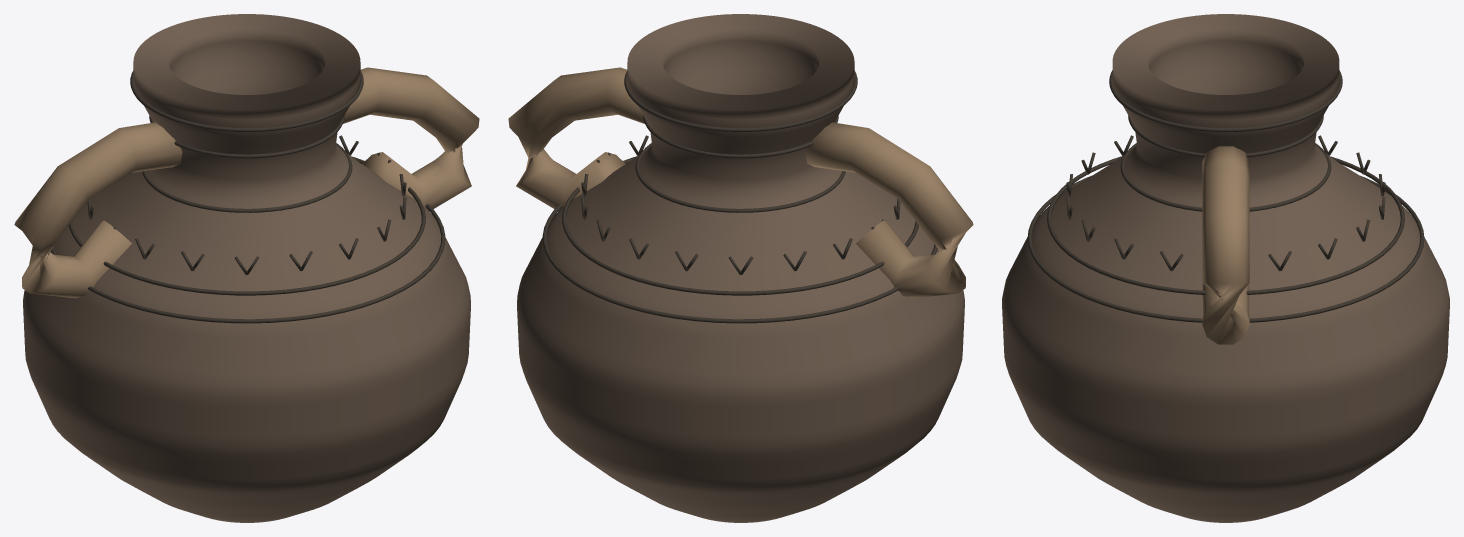
File: 03_Vas_Ceramic_Amfora_Unity_Y_Up.obj
3 views of the same model, side by side, from view 1: azimuth 30°, elevation 25°; view 2: azimuth 150°, elevation 25°; view 3: azimuth 270°, elevation 25° (orthographic).
Visible parts, largest first — view 1: clay, clay_light, clay_ink; view 2: clay, clay_light, clay_ink; view 3: clay, clay_ink, clay_light.
Part boxes in pixels (box(x1,y1,x2,y2)): clay: box(23, 14, 470, 522); clay_light: box(14, 67, 479, 298); clay_ink: box(51, 71, 445, 323); clay: box(517, 14, 964, 522); clay_light: box(508, 67, 973, 298); clay_ink: box(542, 71, 937, 323); clay: box(1002, 14, 1449, 522); clay_ink: box(1027, 70, 1424, 322); clay_light: box(1202, 146, 1249, 344).
Size of the model in its own units: 0.9774 by 0.88 by 0.8282.
